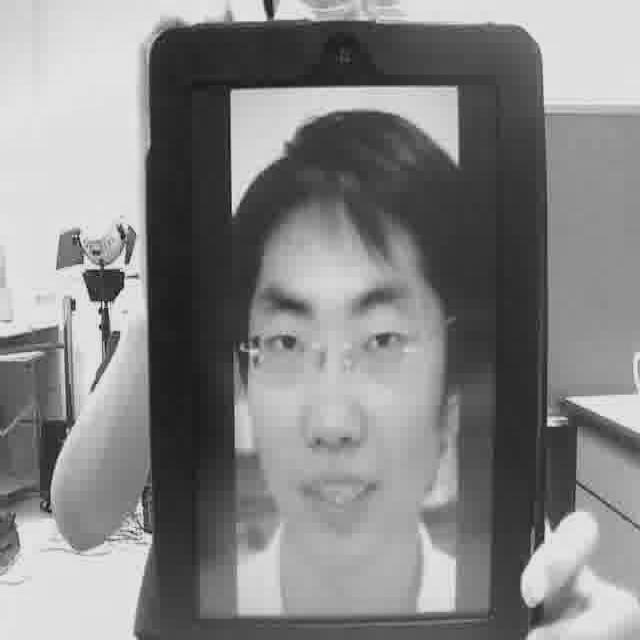fake: (142, 20, 556, 640)
